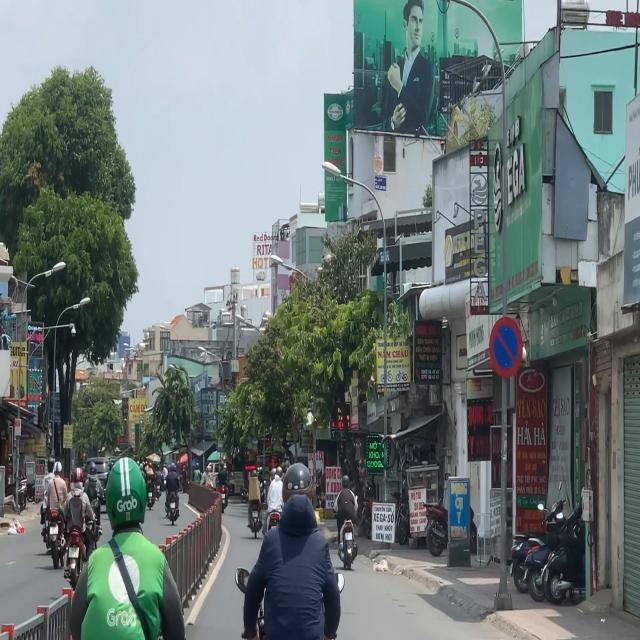bien_cam: (488, 316, 524, 378)
